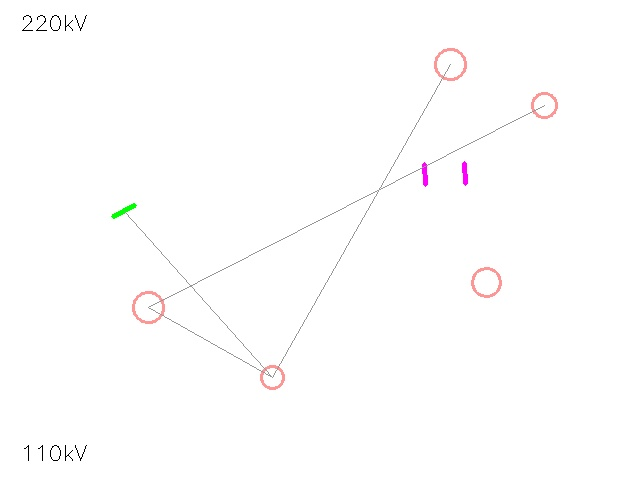busbar: (109, 196, 139, 226)
capacitor: (412, 141, 478, 207)
reactor: (457, 253, 515, 311), (519, 80, 569, 130)
surge_arrester: (118, 277, 178, 337), (250, 355, 294, 399)
voltage_transformer: (419, 33, 481, 95)
